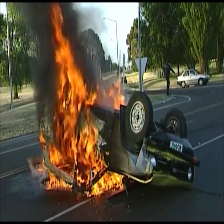fire_h: (49, 2, 109, 187), (84, 170, 125, 198), (106, 77, 125, 109), (47, 172, 73, 190)
fire_l: (36, 156, 48, 172), (39, 132, 47, 152)
